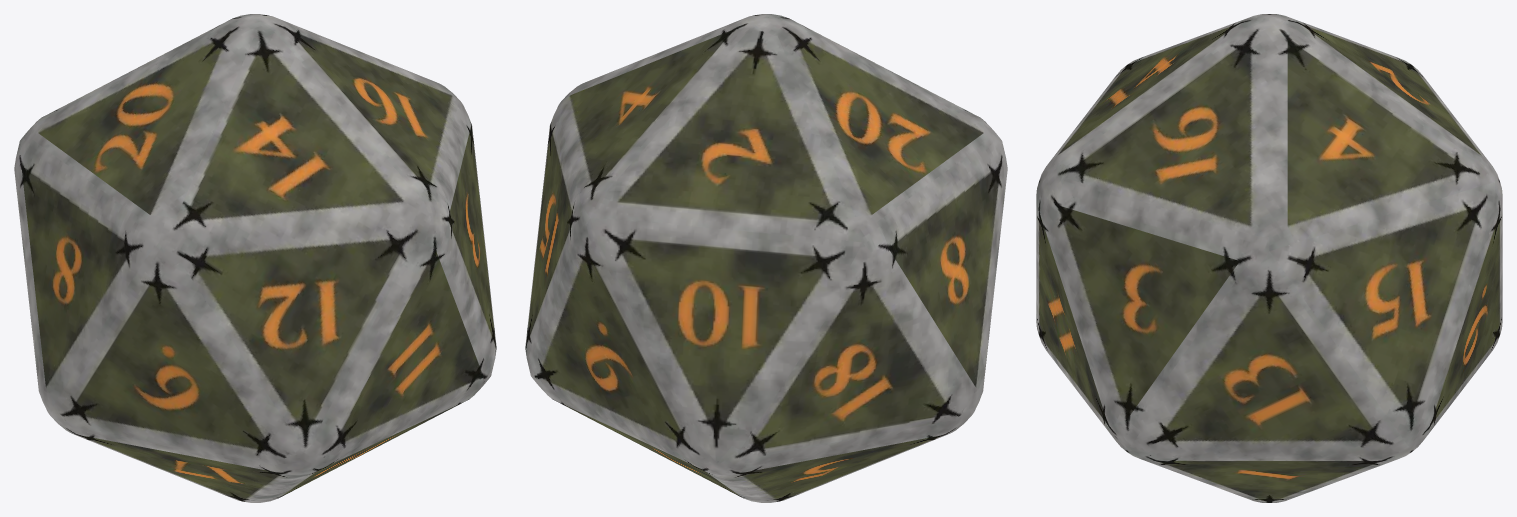
File: orc-d20.glb
The picture shows the model from 3 angles, left to right: view 1: azimuth 30°, elevation 25°; view 2: azimuth 150°, elevation 25°; view 3: azimuth 270°, elevation 25°; orthographic projection.
Parts seen in each view (by area): view 1: orc_d20; view 2: orc_d20; view 3: orc_d20.
Boxes of the visible parts, left/top/right/bottom form: orc_d20: left=14, top=14, right=496, bottom=502; orc_d20: left=525, top=14, right=1007, bottom=502; orc_d20: left=1036, top=14, right=1502, bottom=502.
Bounding box in the file's own units: 1.74 × 1.9 × 1.67.
Materials: 1 (1 with a texture image).
